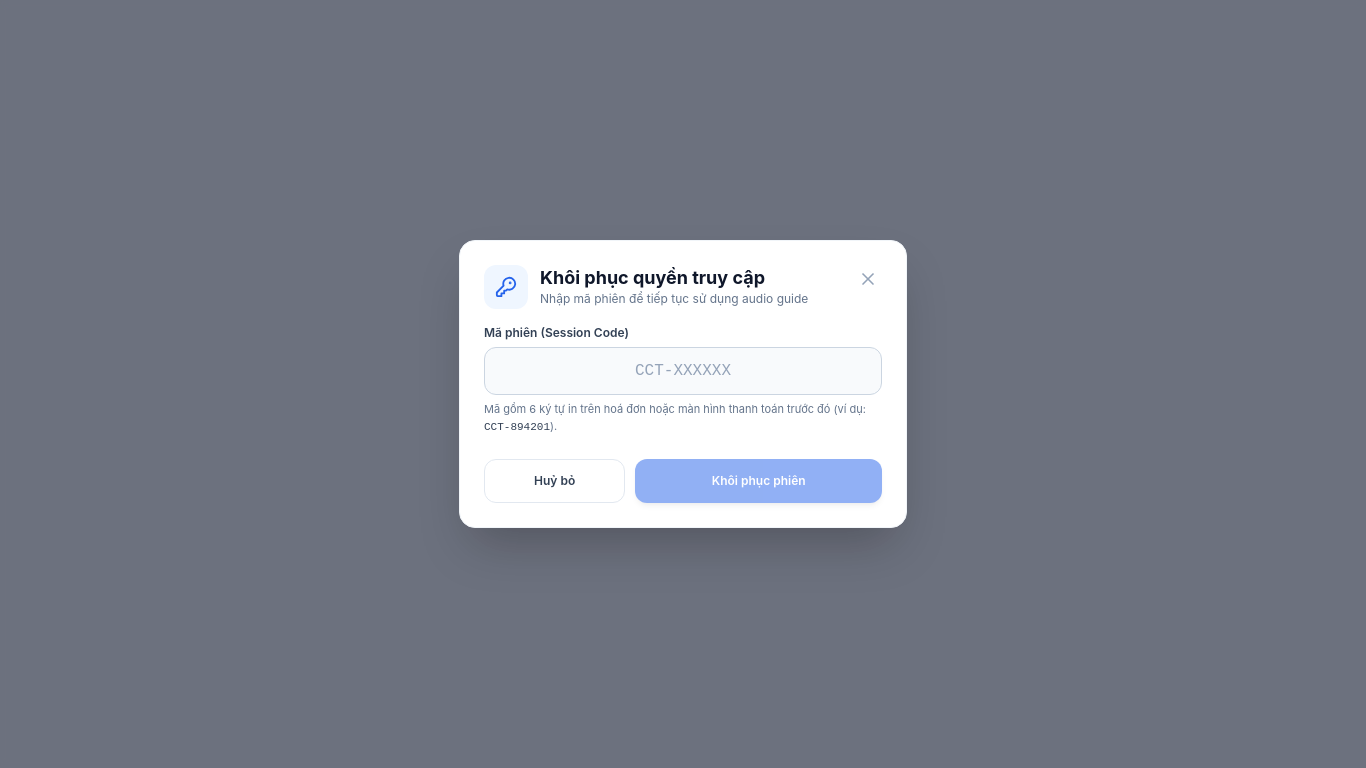
Scenario: RestoreSessionModal (US 06.3 - TSK-06.3.2 & TSK-06.3.3) › displays user-friendly error message when session is invalid or expired
Type "CCT-BAD000" into the field with placeholder "CCT-XXXXXX" at (683, 371), box [484,347,882,395]
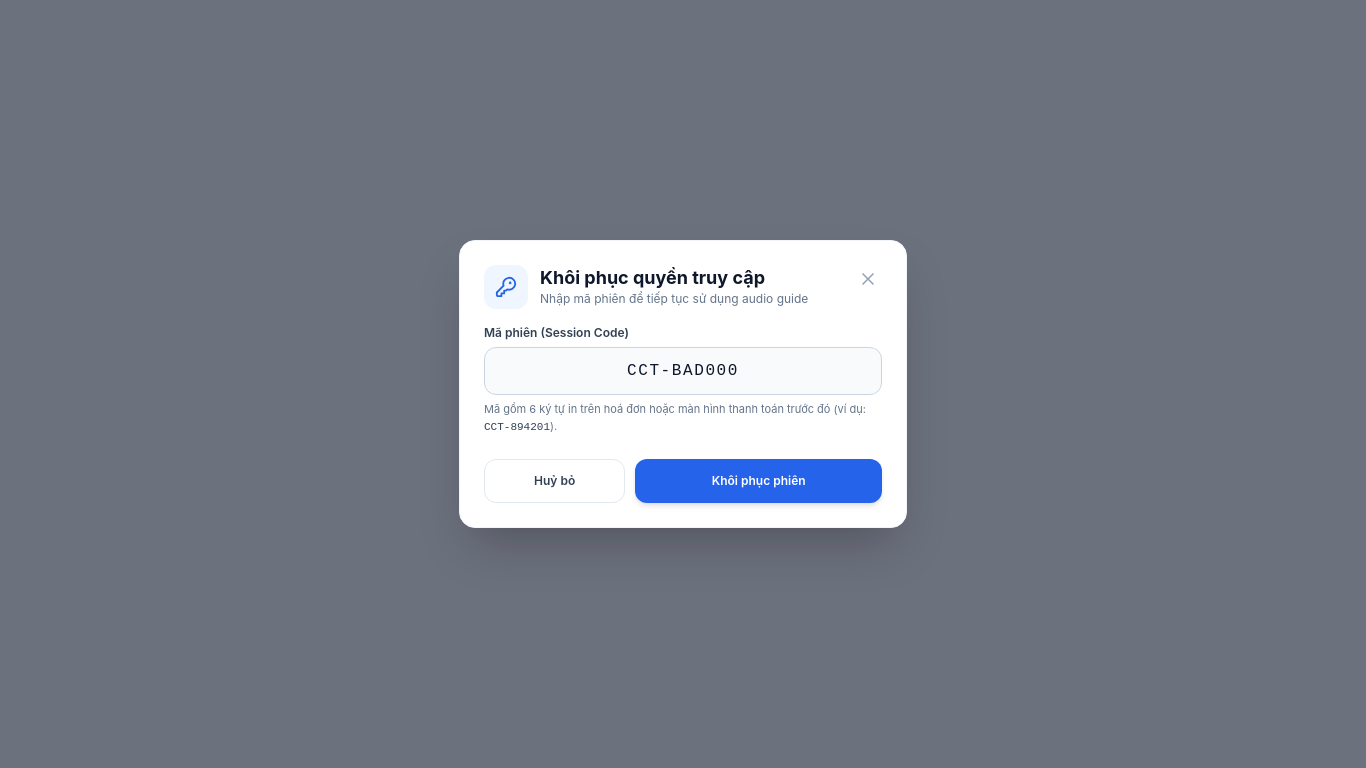
Click the button "Khôi phục phiên" at (759, 481), box [635,459,882,503]
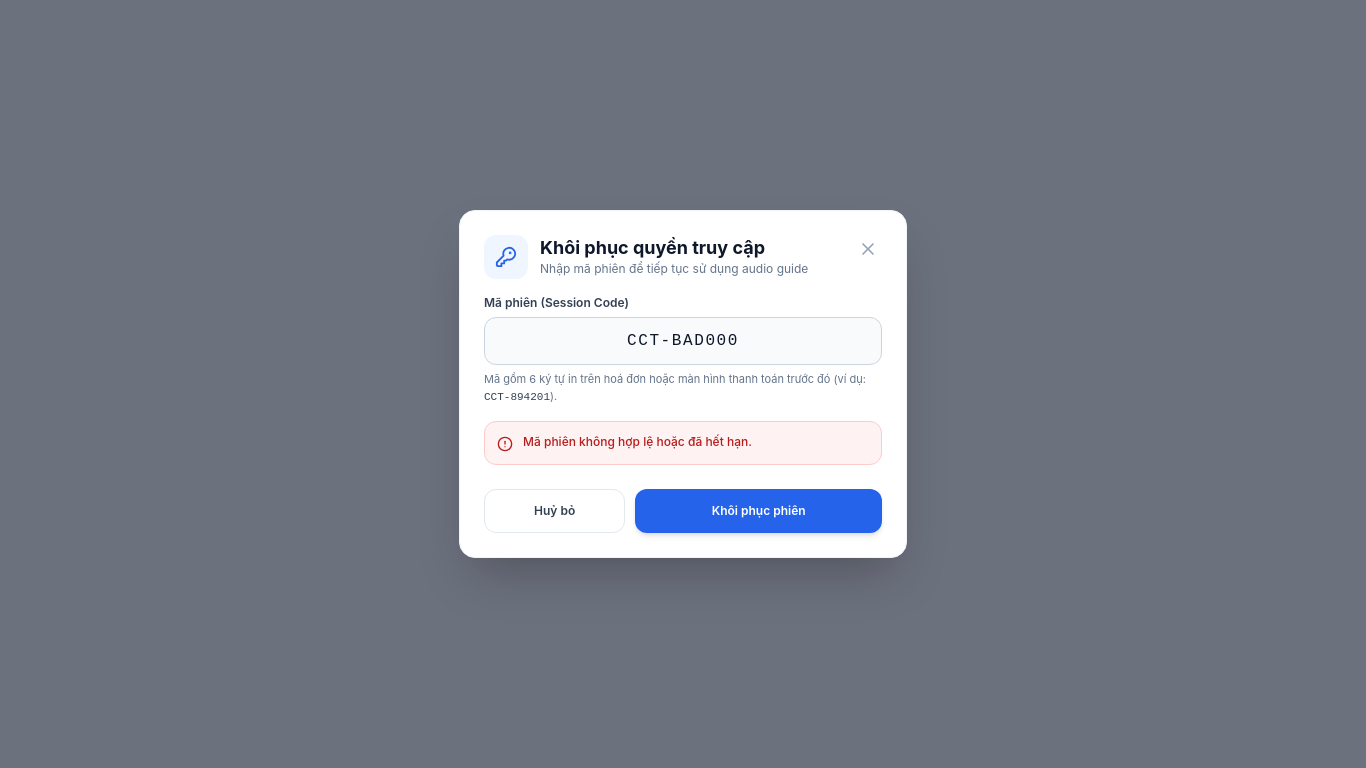
Now the message "Mã phiên không hợp lệ hoặc đã hết hạn." is shown, box [484,421,882,465]
Now the text "Mã phiên không hợp lệ hoặc đã hết hạn." is shown, box [523,434,752,450]
